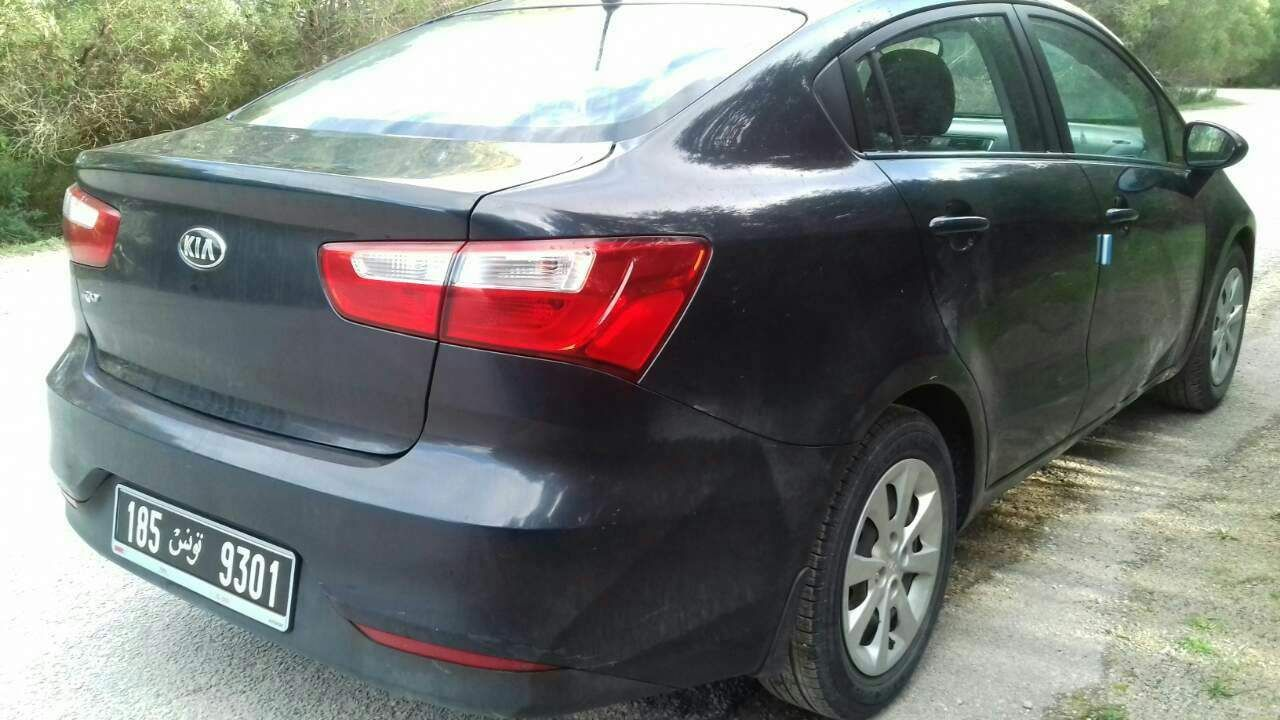LP: (111, 486, 293, 633)
